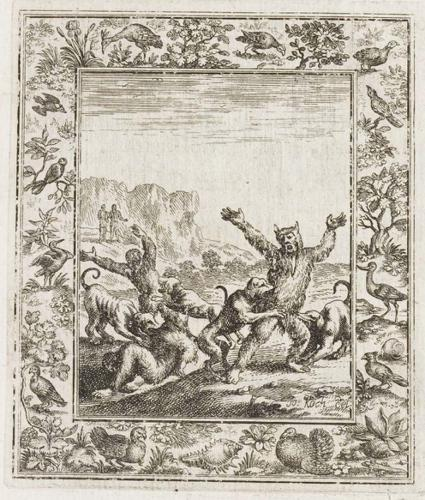bird: (355, 257, 408, 323), (274, 426, 335, 471), (88, 426, 149, 470), (100, 22, 164, 62), (33, 237, 74, 287), (358, 349, 407, 390), (28, 365, 67, 414), (367, 86, 405, 130), (236, 26, 286, 58), (31, 155, 66, 196), (352, 39, 399, 69), (33, 89, 65, 117)
dog: (193, 279, 283, 376), (82, 281, 162, 349), (296, 300, 353, 362)
tree: (356, 163, 408, 250), (164, 19, 234, 69), (284, 19, 349, 72)
